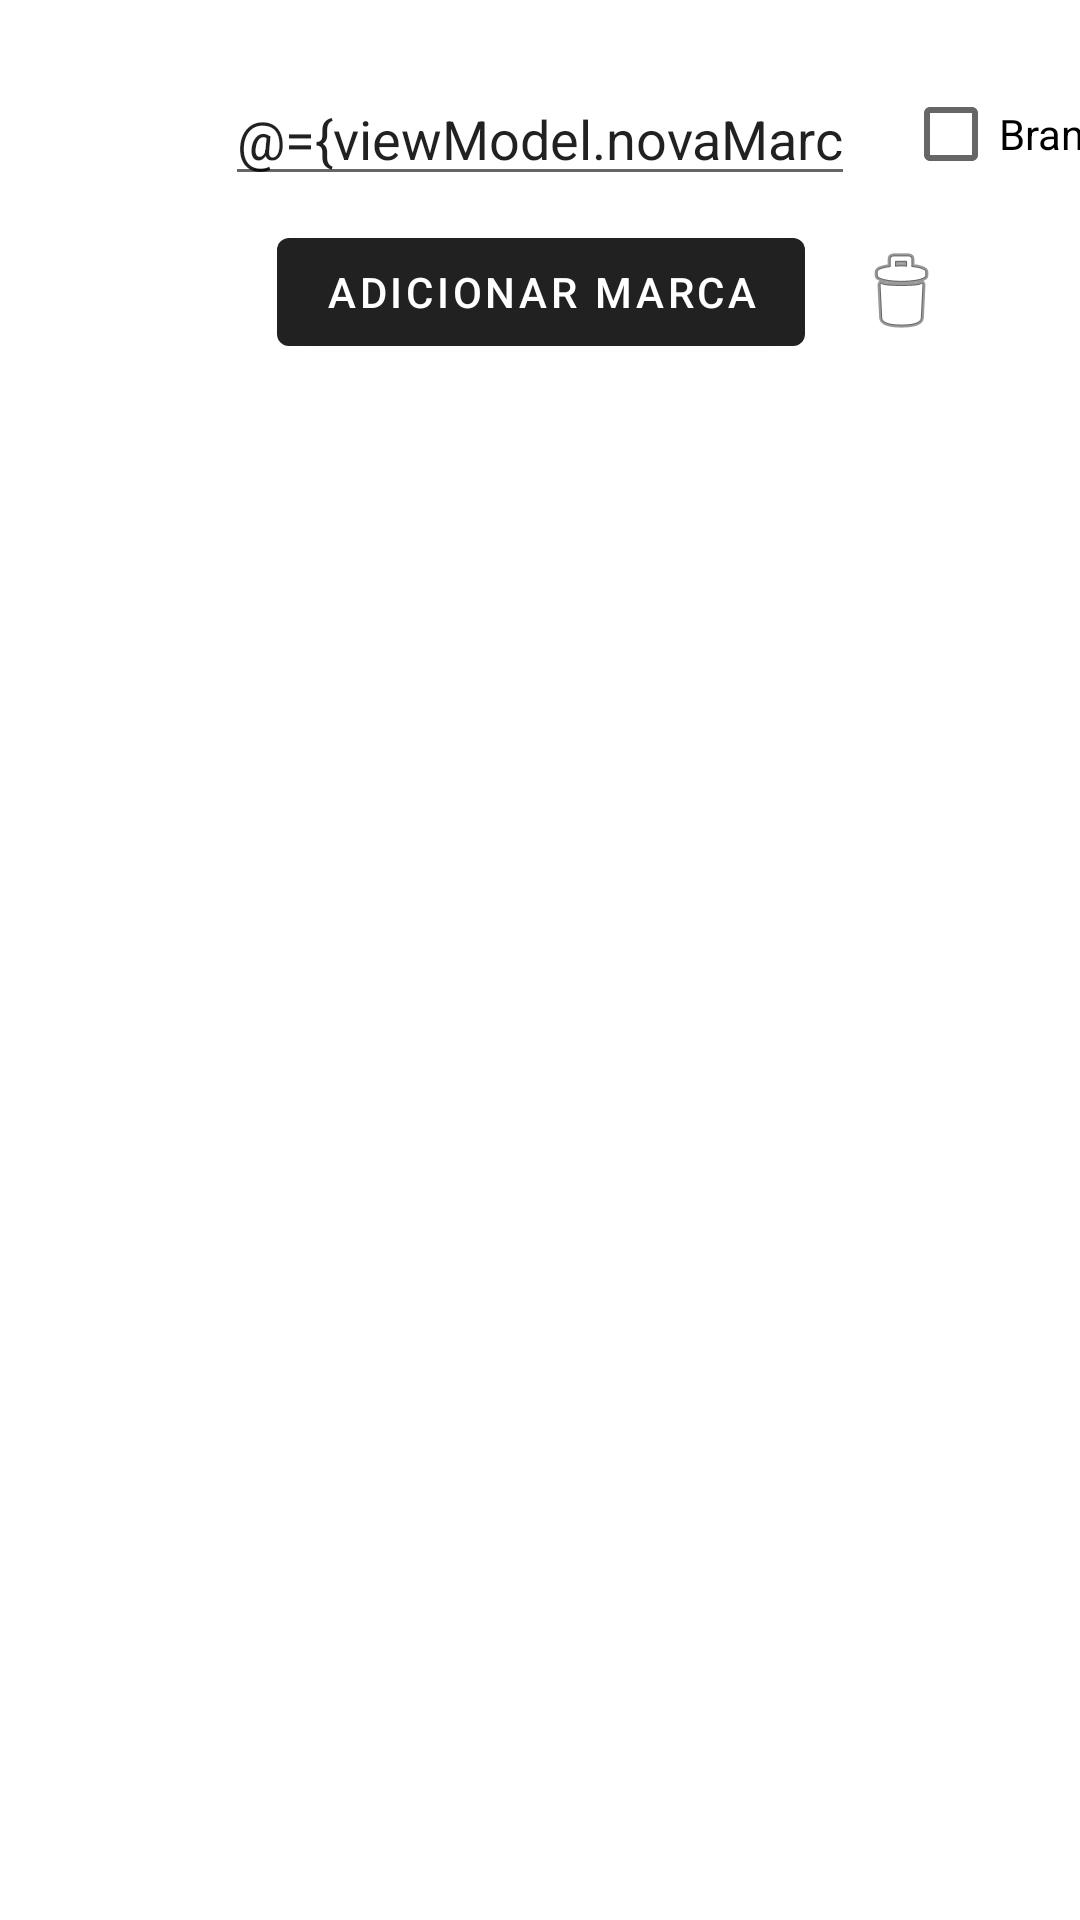

Screen size 1080 × 1920. Icon name, then its center in pixels as (x=x, y=y):
delete: (x=901, y=290)
